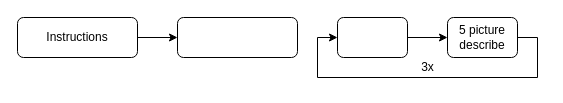
Some shapes in this 563 by 103 pixel diagram are drawn without their labels. Each missing label, with the centre of its shape:
"5 min rest (create baseline)" goes at pixel 237 37.
"Marloes" goes at pixel 372 37.
